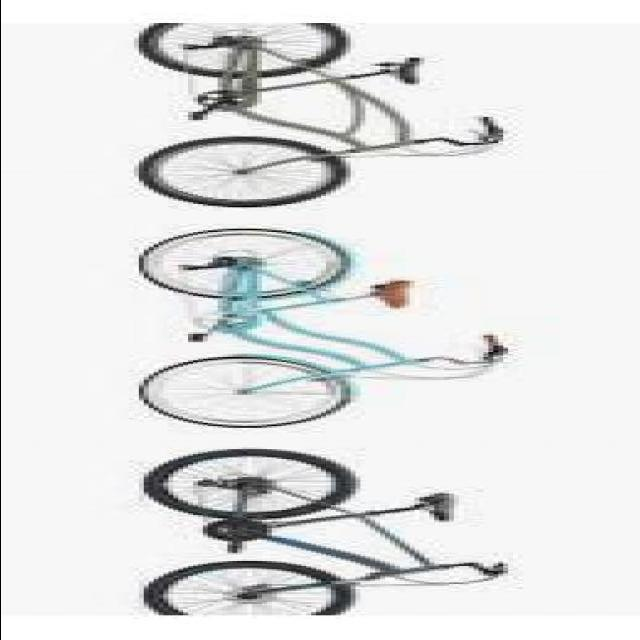bicycle: (134, 228, 508, 428), (129, 22, 503, 206), (144, 450, 508, 614)
